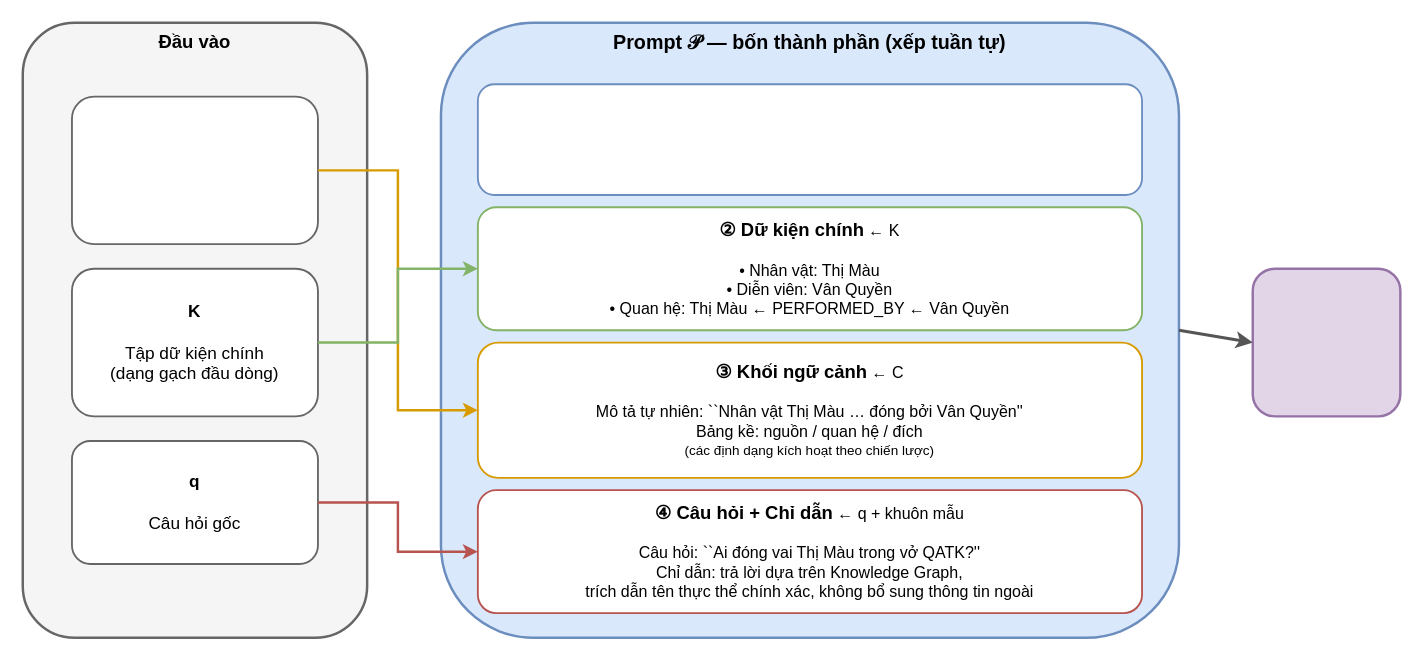
Image size: 1422x659. Some labels were removed from this diagram. Each missing label, with the centre of its shape:
"C Tập ngữ cảnh đa định dạng {(định dạng, nội dung)}" goes at (194,170).
"Đầu ra: 𝒫 Prompt hoàn chỉnh gửi đến LLM" goes at (1326,342).
"① Tiêu đề ngữ cảnh [hằng số] ``Thông tin từ Knowledge Graph về nghệ thuật Chèo''" goes at (809,139).
